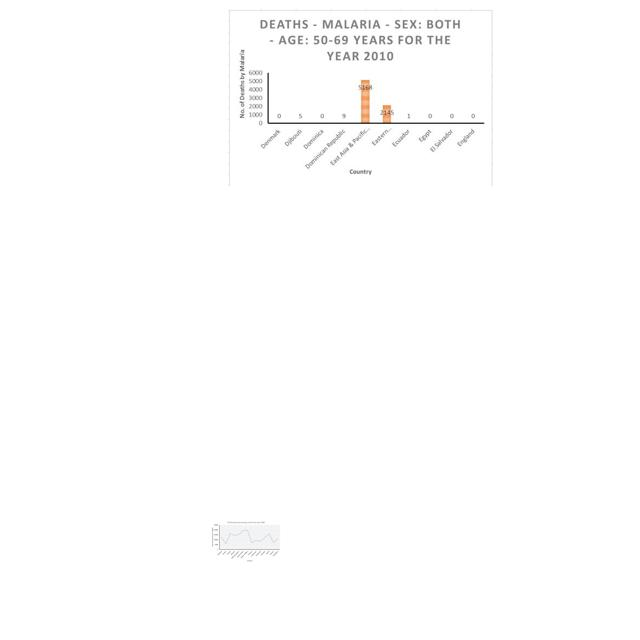Graph: (228, 9, 493, 186), (211, 521, 281, 562)
